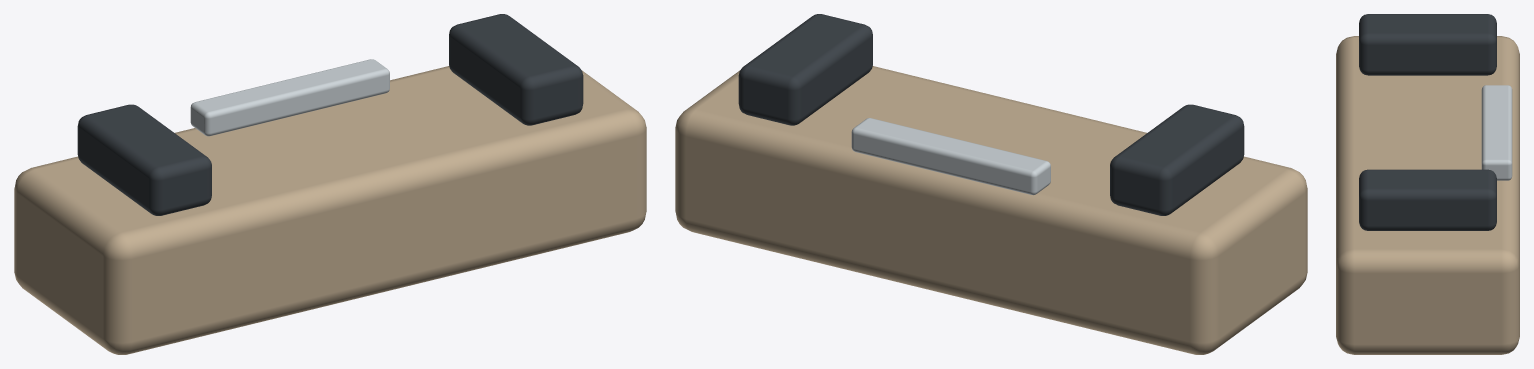
File: fencing-club-and-tournament-piste-blade-straightening--e90e948a__31241.glb
3 views of the same model, side by side, from view 1: azimuth 30°, elevation 25°; view 2: azimuth 150°, elevation 25°; view 3: azimuth 270°, elevation 25° (orthographic). The views are drawn at different scales.
Parts seen in each view (by area): view 1: blade-straightening-block; view 2: blade-straightening-block; view 3: blade-straightening-block.
Part boxes in pixels (<box>): blade-straightening-block: <box>14,14,646,354</box>; blade-straightening-block: <box>675,14,1307,354</box>; blade-straightening-block: <box>1336,14,1519,354</box>.
Bounding box in the file's own units: 0.35 × 0.105 × 0.12.
